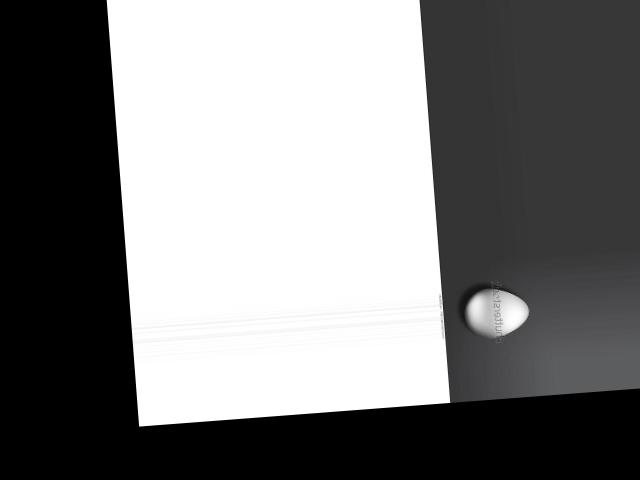egg: (463, 285, 531, 339)
